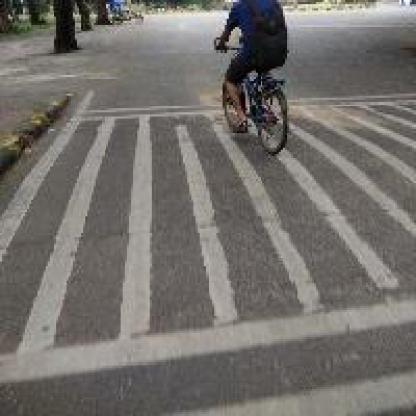Speed Bump: (2, 106, 214, 387)
